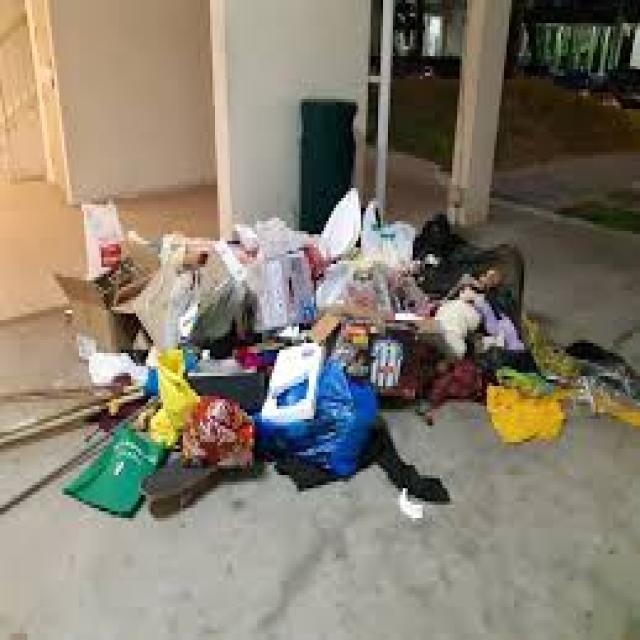bin_empty: (296, 96, 358, 234)
normal_waste: (84, 188, 368, 353), (254, 356, 370, 475), (180, 392, 254, 466), (314, 257, 396, 320), (190, 277, 252, 350), (79, 198, 126, 280), (358, 198, 415, 264), (410, 211, 457, 264), (86, 349, 146, 386), (482, 342, 536, 380), (566, 340, 628, 370)
